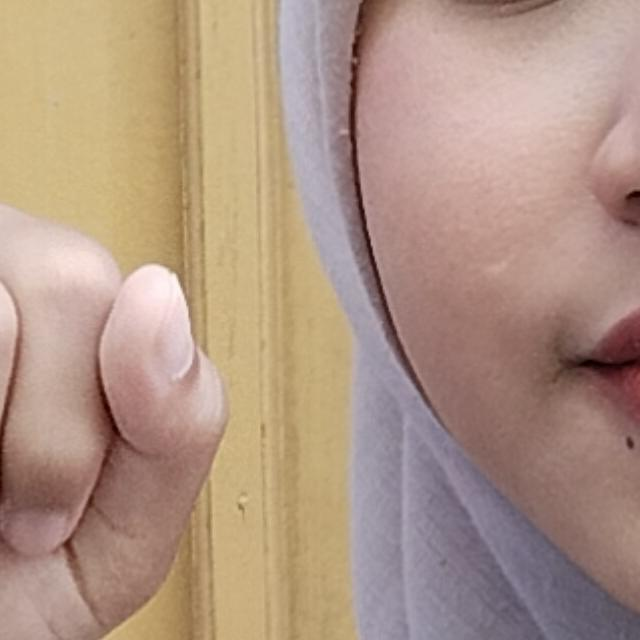baik: (0, 108, 450, 640)
